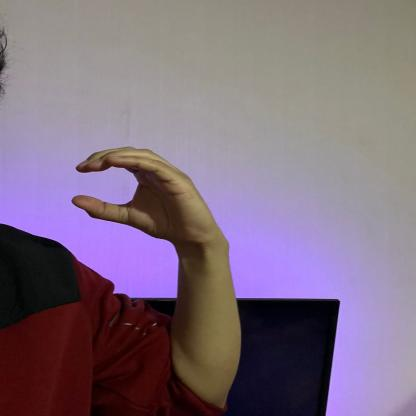C: (70, 139, 212, 245)
